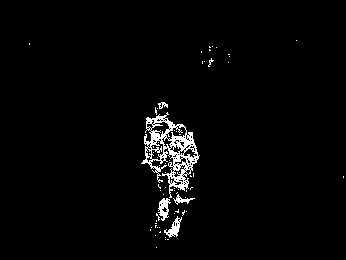person: (167, 124, 199, 238), (144, 101, 171, 224)
